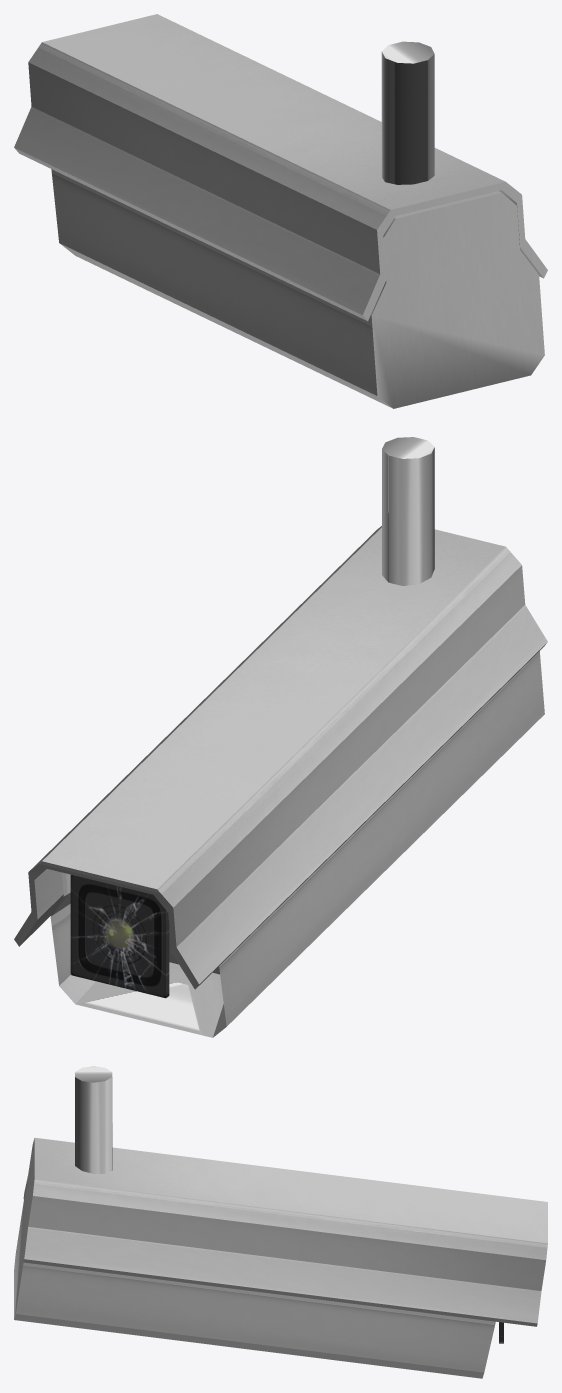
File: sec_camera_d.FBX
3 views of the same model, one above another, from view 1: azimuth 30°, elevation 25°; view 2: azimuth 150°, elevation 25°; view 3: azimuth 270°, elevation 25° (orthographic). The views are drawn at different scales.
Parts seen in each view (by area): view 1: Box002, Object, Cylinder002; view 2: Box002, Object, Box003, Cylinder002; view 3: Box002, Object, Cylinder002.
Part boxes in pixels (x1,y1,x2,y2): Box002: (14, 14, 547, 321); Object: (51, 169, 544, 408); Cylinder002: (381, 41, 434, 184); Box002: (14, 526, 547, 989); Object: (50, 651, 544, 1037); Box003: (70, 874, 169, 998); Cylinder002: (382, 437, 434, 585); Box002: (23, 1137, 547, 1326); Object: (14, 1146, 495, 1378); Cylinder002: (75, 1066, 112, 1173).
Bounding box in the file's own units: 39.72 × 77.81 × 135.
1 material, 1 textured.
